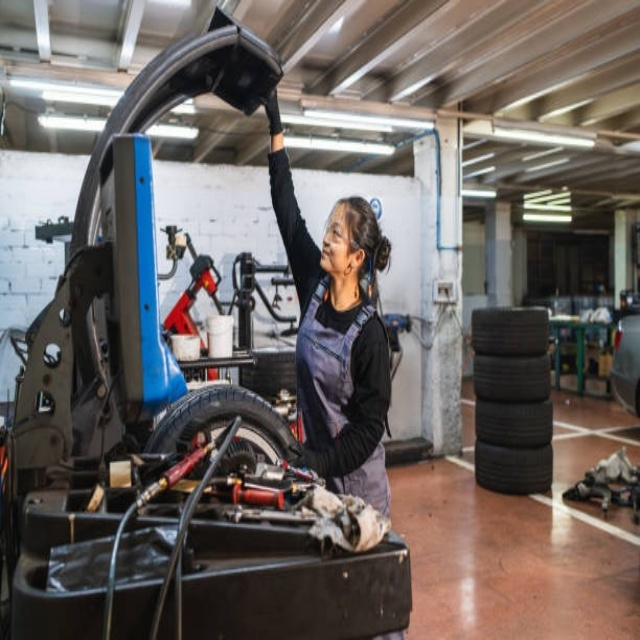Gafas: (325, 220, 361, 254)
Guantes: (282, 436, 330, 478), (261, 89, 284, 144)
Sin_mascara: (319, 243, 335, 270)
